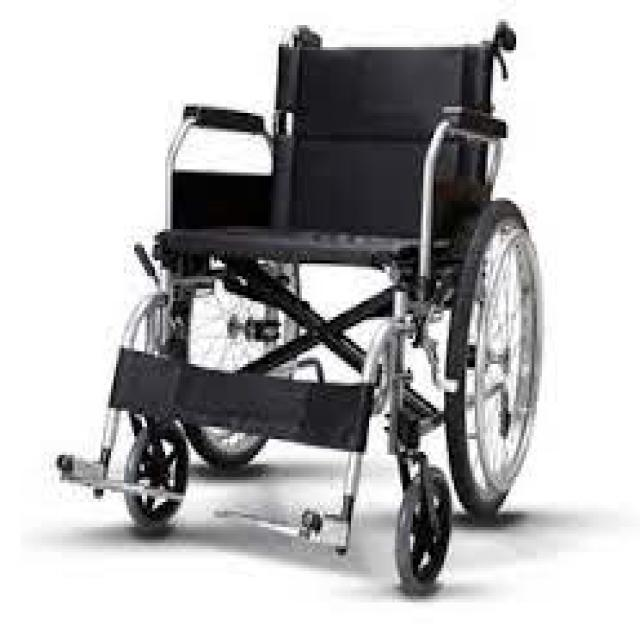wheelchair: (49, 19, 552, 596)
